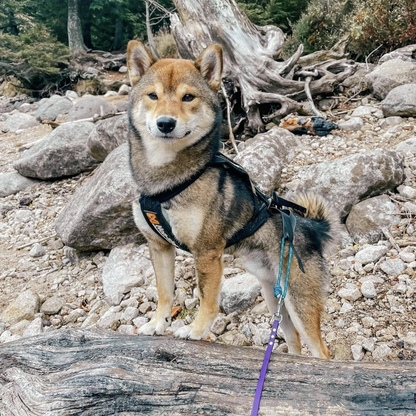shiba: (114, 29, 343, 369)
